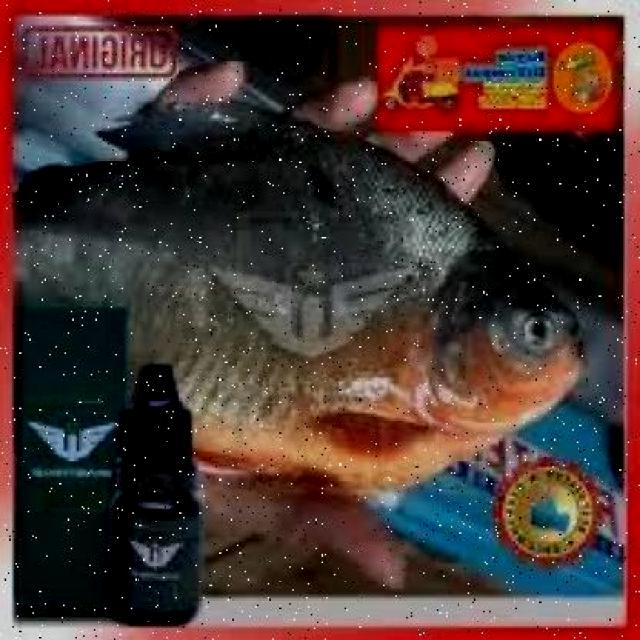ikan-pacu: (16, 122, 593, 476)
